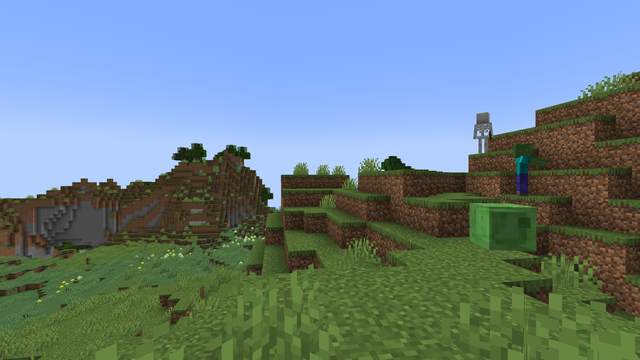slimes: (466, 201, 538, 251)
squelettes: (473, 112, 492, 153)
zombies: (508, 144, 535, 195)
